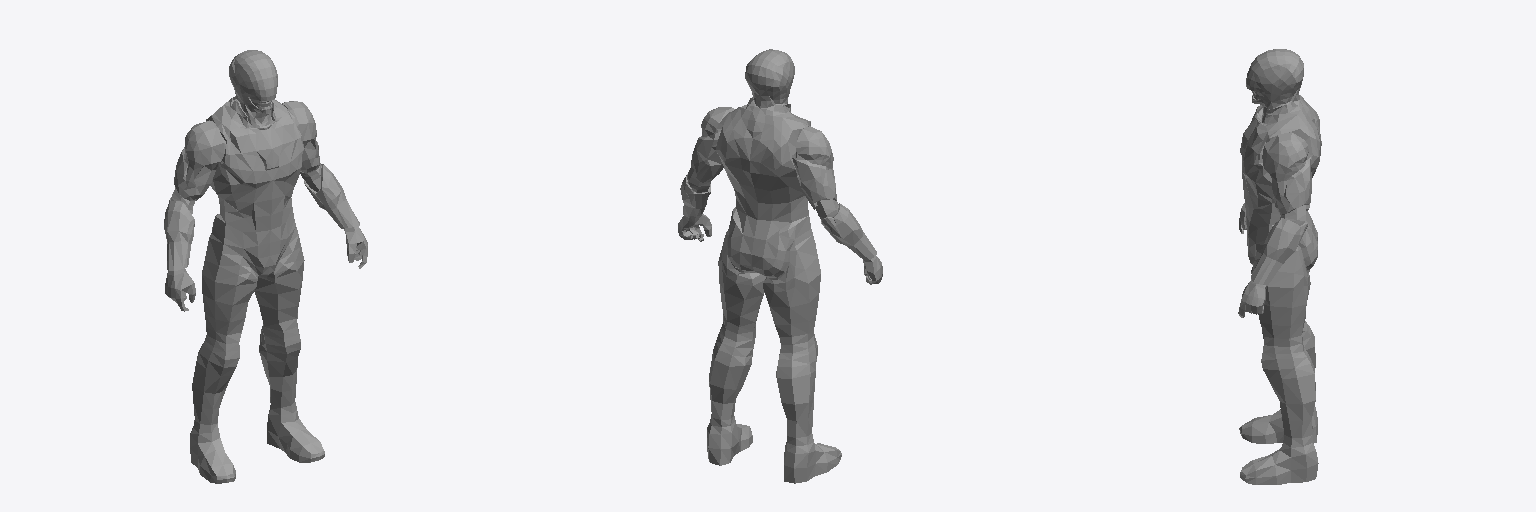
Rendered from Robocop_Black.obj.
The picture shows the model from 3 angles: view 1: azimuth 30°, elevation 25°; view 2: azimuth 150°, elevation 25°; view 3: azimuth 270°, elevation 25°; orthographic projection.
Parts seen in each view (by area): view 1: RobocopBlack; view 2: RobocopBlack; view 3: RobocopBlack.
Boxes of the visible parts, x1=… form: RobocopBlack: x1=164, y1=50, x2=367, y2=483; RobocopBlack: x1=678, y1=49, x2=882, y2=483; RobocopBlack: x1=1238, y1=49, x2=1321, y2=484.
Bounding box in the file's own units: 1.91 × 3.73 × 0.6949.